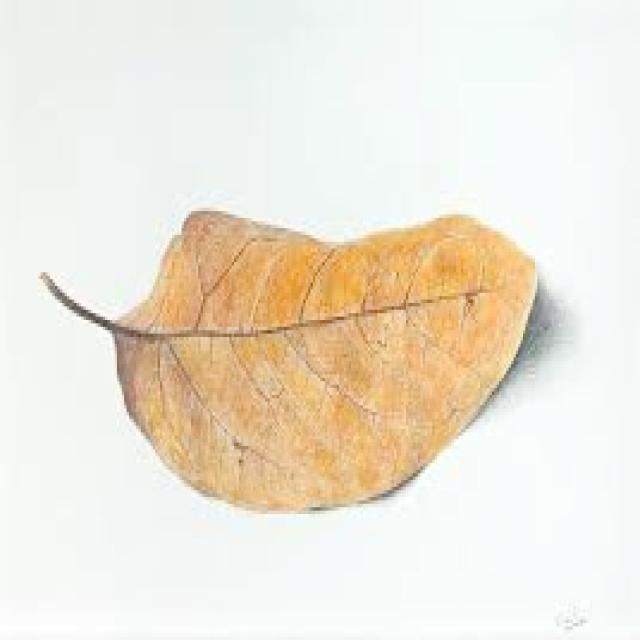leaf: (39, 206, 539, 514)
